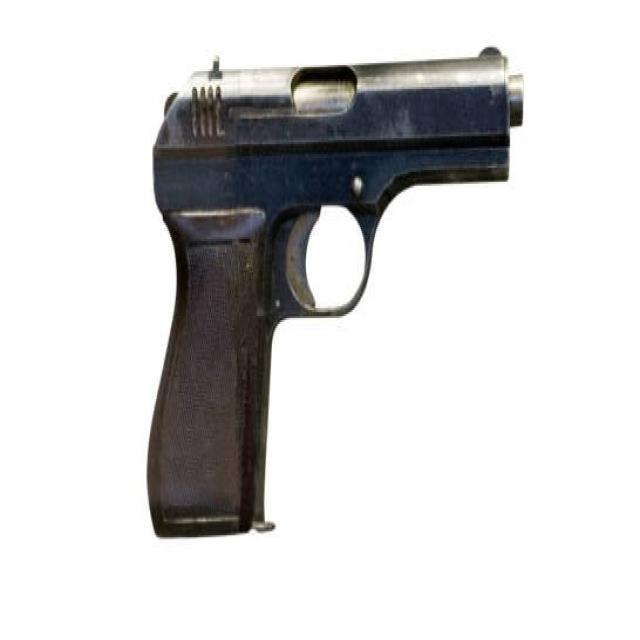pistol: (139, 32, 550, 551)
